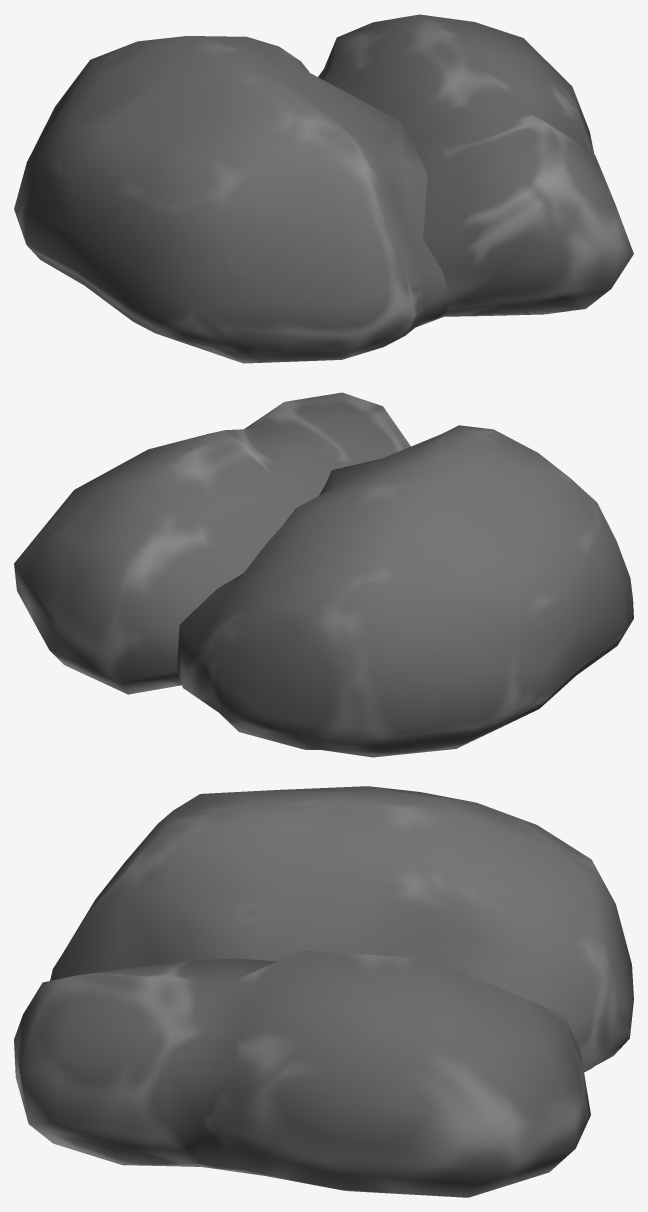
File: rock_4.fbx
3 views of the same model, one above another, from view 1: azimuth 30°, elevation 25°; view 2: azimuth 150°, elevation 25°; view 3: azimuth 270°, elevation 25° (orthographic). The views are drawn at different scales.
Parts seen in each view (by area): view 1: rock_4; view 2: rock_4; view 3: rock_4.
Part boxes in pixels (x1,y1,x2,y2): rock_4: (14,14,633,363); rock_4: (14,392,633,757); rock_4: (14,786,633,1197).
Size of the model in its own units: 272 by 105 by 252.
